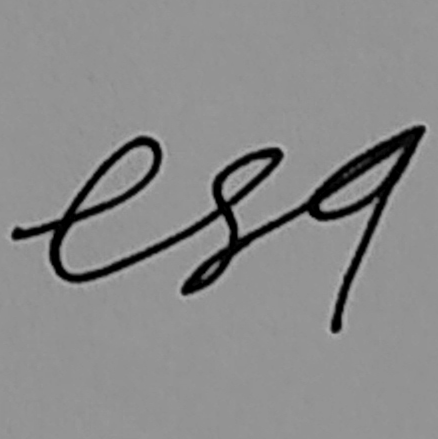e: (44, 131, 163, 287)
q: (301, 122, 428, 337)
s: (177, 145, 284, 299)
